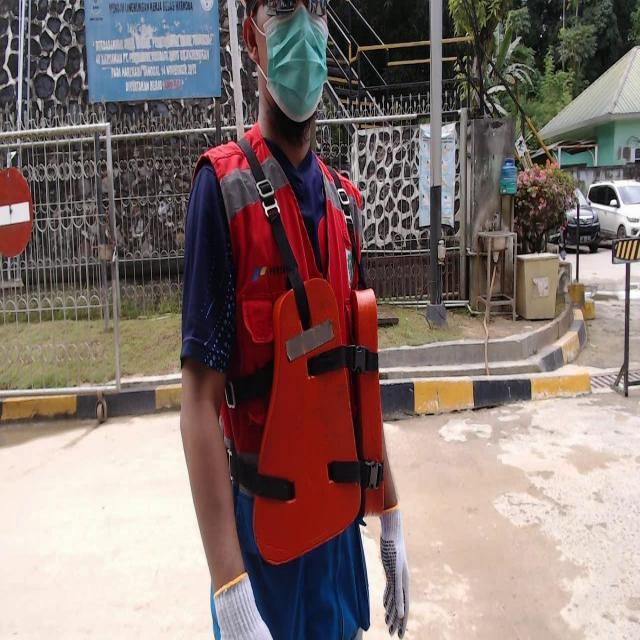vest: (246, 271, 394, 563)
